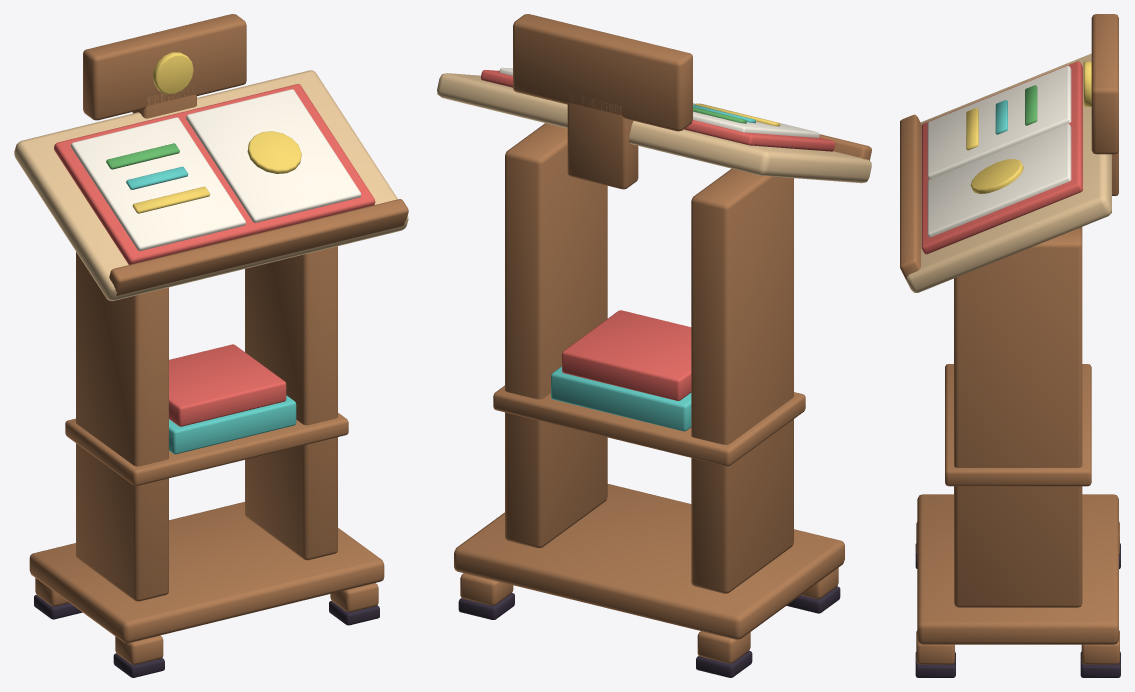
The model's file is report-card-stand.glb.
3 views of the same model, side by side, from view 1: azimuth 30°, elevation 25°; view 2: azimuth 150°, elevation 25°; view 3: azimuth 270°, elevation 25° (orthographic). The views are drawn at different scales.
Parts seen in each view (by area): view 1: IntReportCard_WoodStand, IntReportCard_FolioPages, IntReportCard_CoralCover, IntReportCard_DeckTop, IntReportCard_TurquoiseGrades, IntReportCard_ButterSeal, IntReportCard_Glides, IntReportCard_GreenGrades; view 2: IntReportCard_WoodStand, IntReportCard_CoralCover, IntReportCard_DeckTop, IntReportCard_TurquoiseGrades, IntReportCard_Glides, IntReportCard_FolioPages; view 3: IntReportCard_WoodStand, IntReportCard_FolioPages, IntReportCard_DeckTop, IntReportCard_CoralCover, IntReportCard_ButterSeal, IntReportCard_Glides, IntReportCard_GreenGrades, IntReportCard_TurquoiseGrades.
Part boxes in pixels (bbox=[...]): IntReportCard_WoodStand: bbox=[29, 14, 408, 664]; IntReportCard_FolioPages: bbox=[70, 89, 361, 250]; IntReportCard_CoralCover: bbox=[54, 84, 375, 426]; IntReportCard_DeckTop: bbox=[14, 70, 408, 301]; IntReportCard_TurquoiseGrades: bbox=[126, 166, 296, 454]; IntReportCard_ButterSeal: bbox=[132, 52, 301, 213]; IntReportCard_Glides: bbox=[34, 595, 379, 677]; IntReportCard_GreenGrades: bbox=[106, 143, 179, 169]; IntReportCard_WoodStand: bbox=[454, 14, 871, 663]; IntReportCard_CoralCover: bbox=[481, 70, 834, 400]; IntReportCard_DeckTop: bbox=[437, 73, 871, 183]; IntReportCard_TurquoiseGrades: bbox=[551, 104, 755, 431]; IntReportCard_Glides: bbox=[458, 586, 840, 677]; IntReportCard_FolioPages: bbox=[499, 67, 819, 137]; IntReportCard_WoodStand: bbox=[900, 14, 1119, 664]; IntReportCard_FolioPages: bbox=[927, 65, 1071, 237]; IntReportCard_DeckTop: bbox=[906, 53, 1111, 292]; IntReportCard_CoralCover: bbox=[921, 61, 1082, 254]; IntReportCard_ButterSeal: bbox=[966, 61, 1091, 193]; IntReportCard_Glides: bbox=[915, 543, 1120, 677]; IntReportCard_GreenGrades: bbox=[1025, 85, 1037, 125]; IntReportCard_TurquoiseGrades: bbox=[995, 100, 1007, 134].
Size of the model in its own units: 0.78 by 1.36 by 0.4818.
